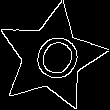O_SW: (20, 24, 83, 90)
